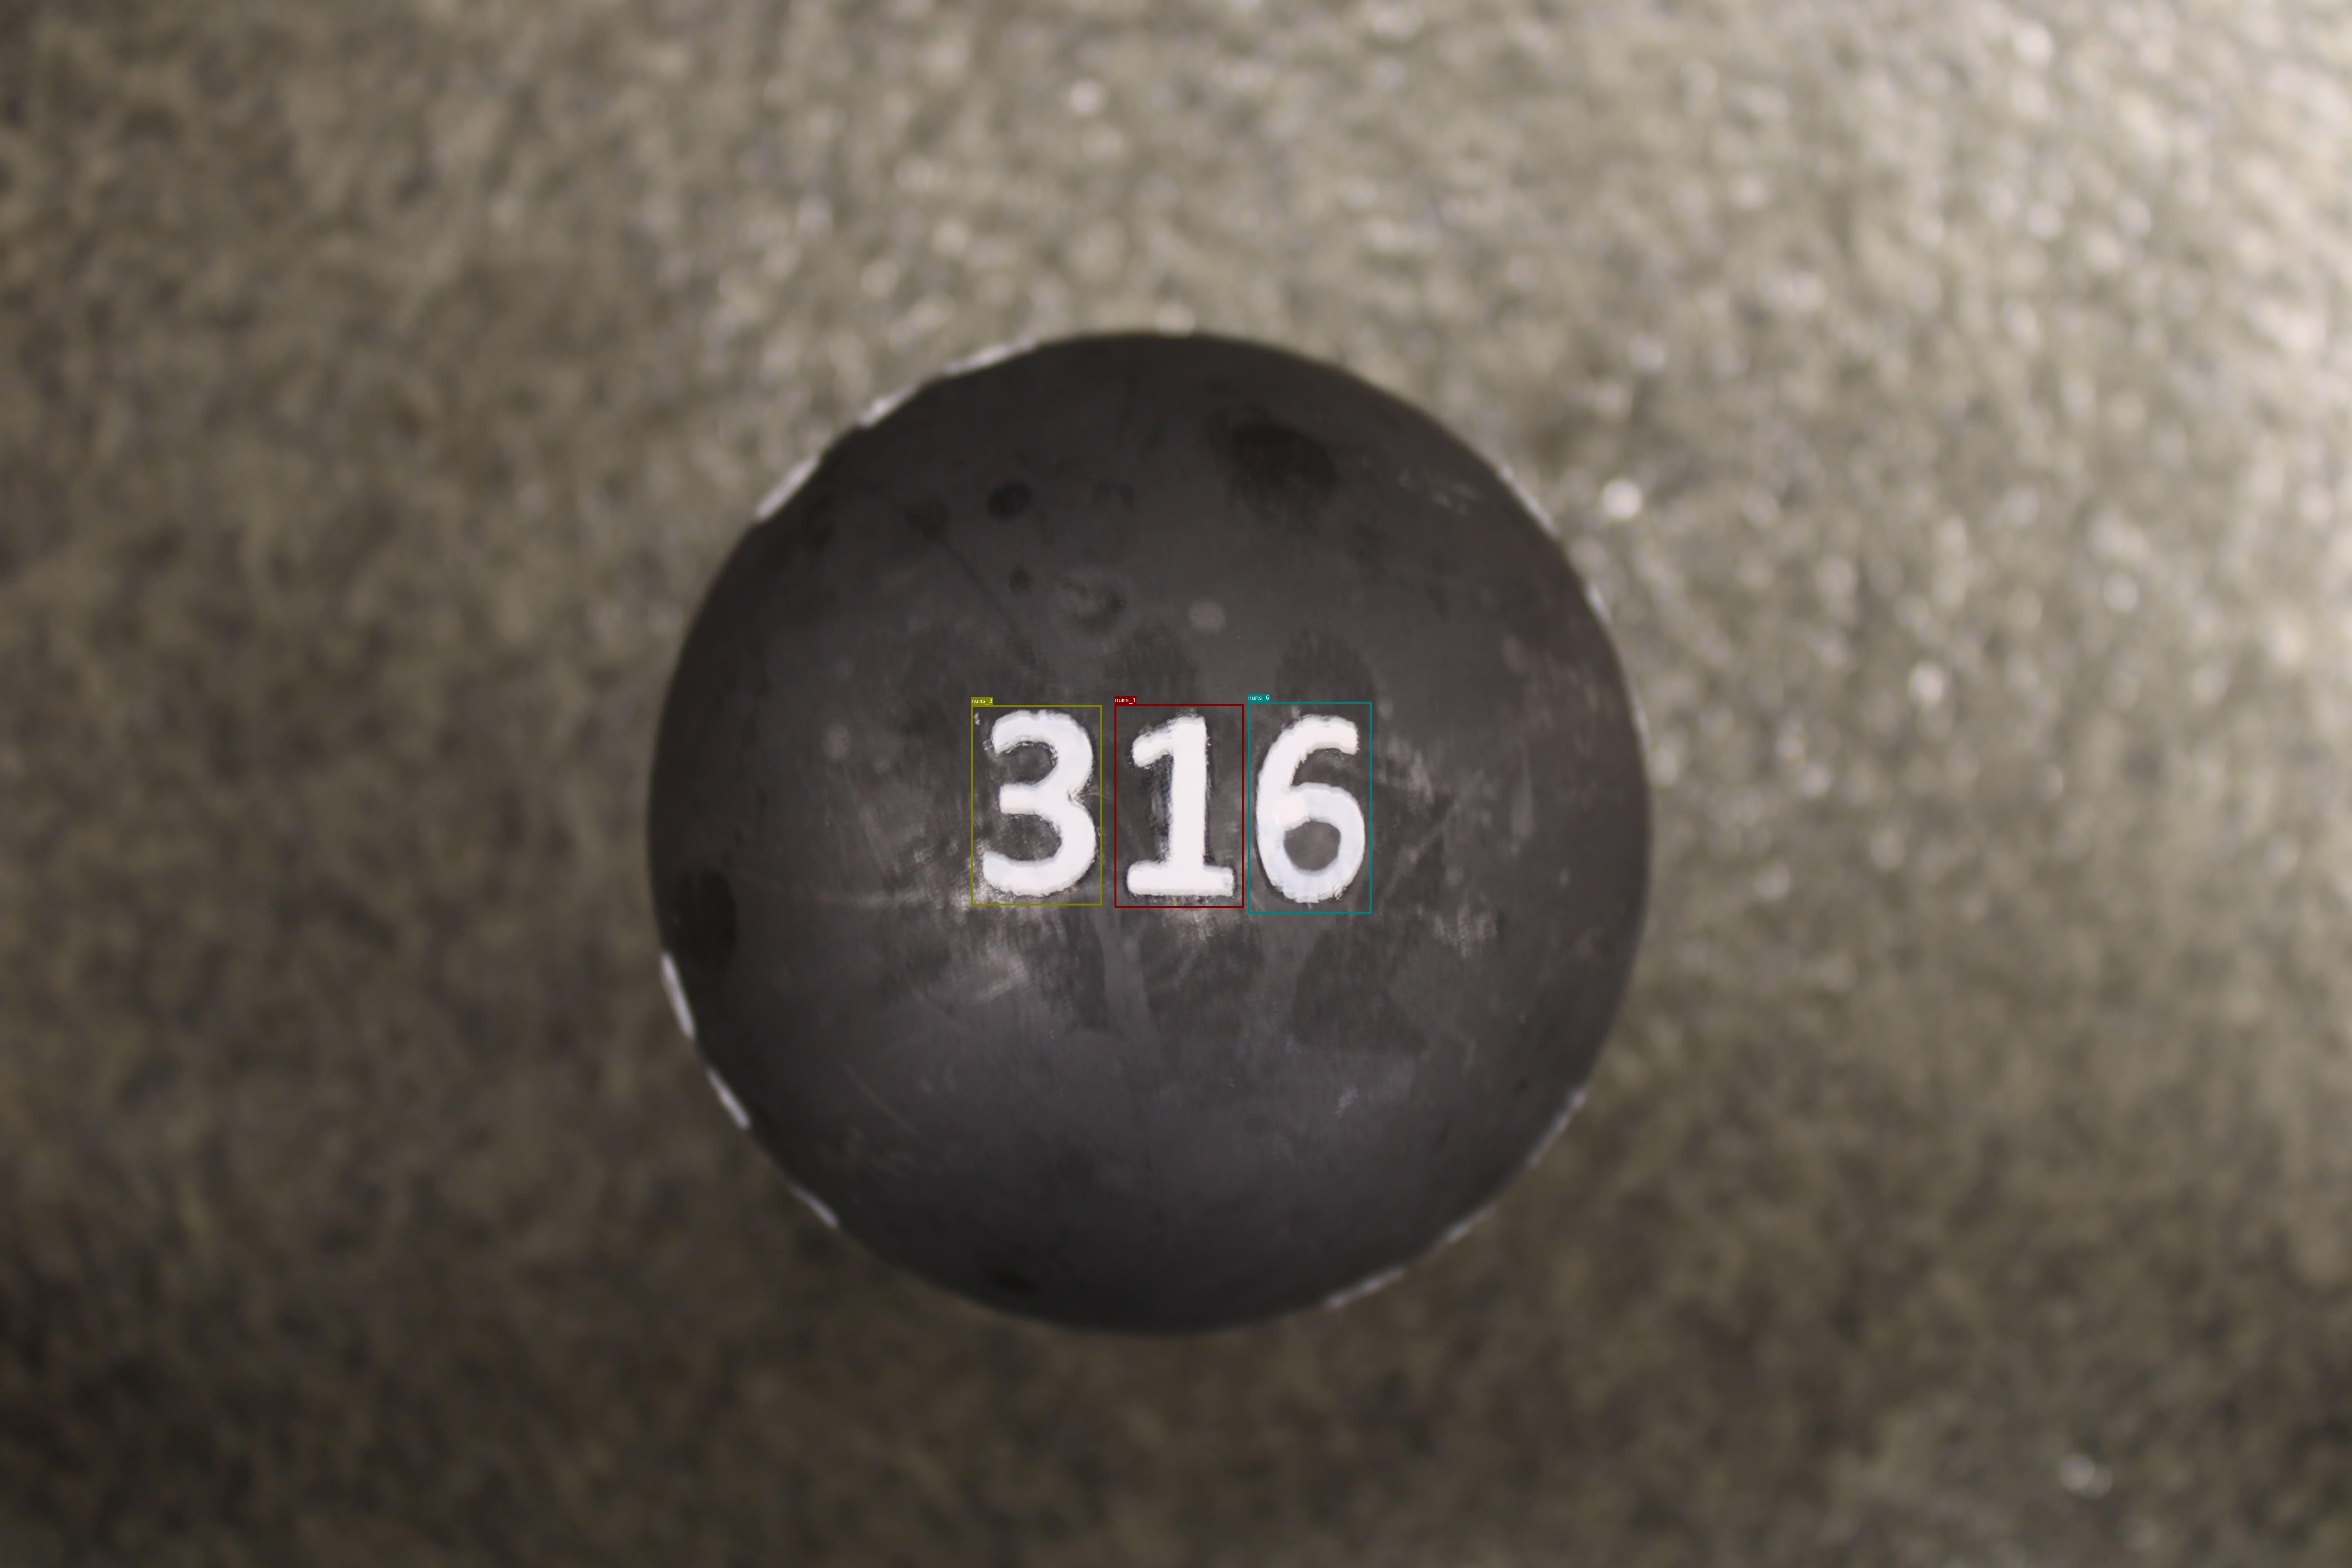nums_1: (1115, 703, 1244, 908)
nums_3: (971, 705, 1102, 905)
nums_6: (1248, 702, 1372, 914)
